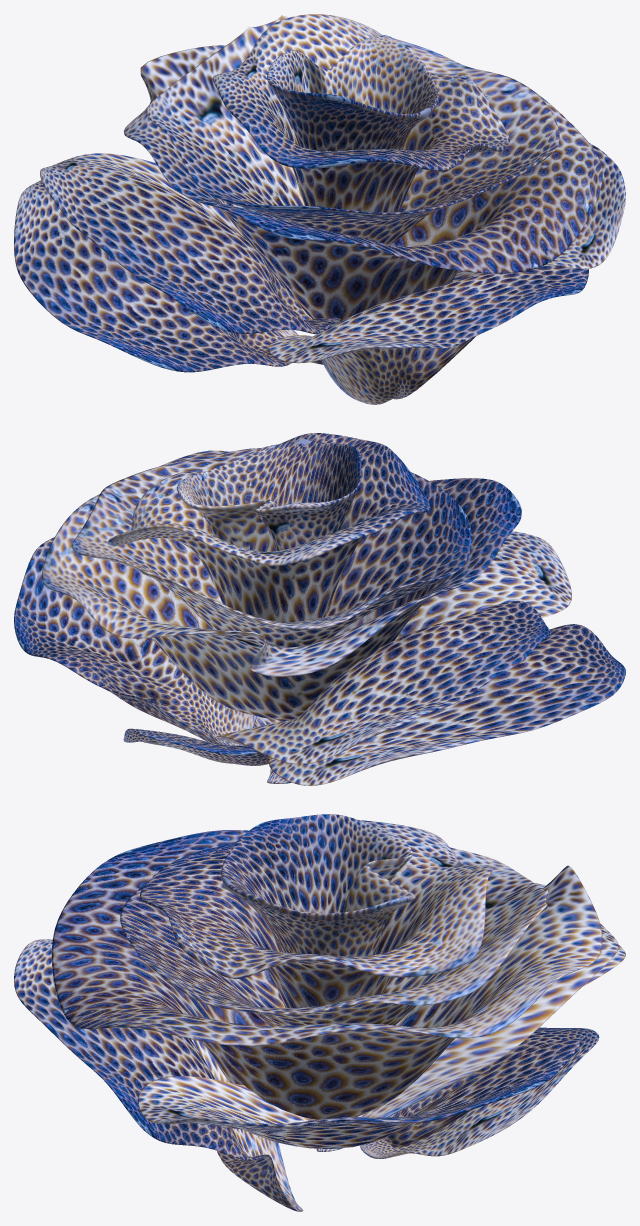
The model's file is coral_reef_lettuce.fbx.
3 renders of one model, top to bottom at view 1: azimuth 30°, elevation 25°; view 2: azimuth 150°, elevation 25°; view 3: azimuth 270°, elevation 25°, orthographic. The views are drawn at different scales.
Visible parts, largest first — view 1: reef_leaf.005; view 2: reef_leaf.005; view 3: reef_leaf.005.
Boxes of the visible parts, x1=… form: reef_leaf.005: x1=14, y1=14, x2=625, y2=404; reef_leaf.005: x1=14, y1=433, x2=625, y2=785; reef_leaf.005: x1=14, y1=814, x2=625, y2=1211.
Bounding box in the file's own units: 220 × 127 × 199.
1 material, 1 textured.
